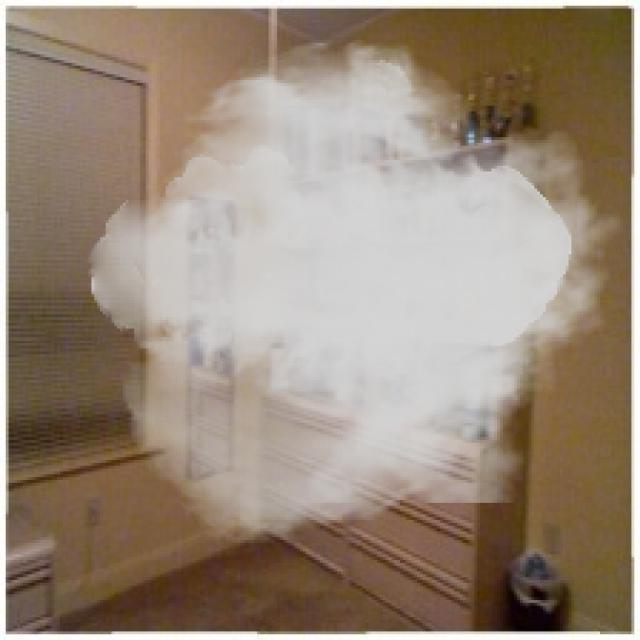Smoke: (89, 34, 626, 549)
